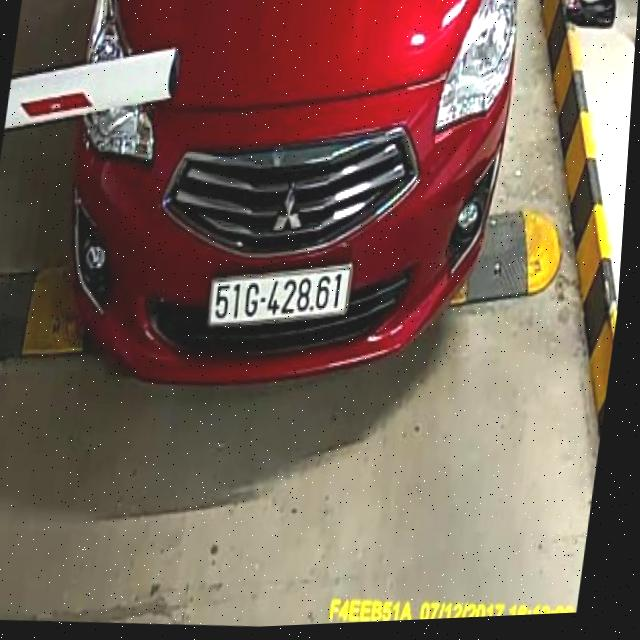car: (23, 0, 536, 413)
plate: (204, 259, 359, 337)
